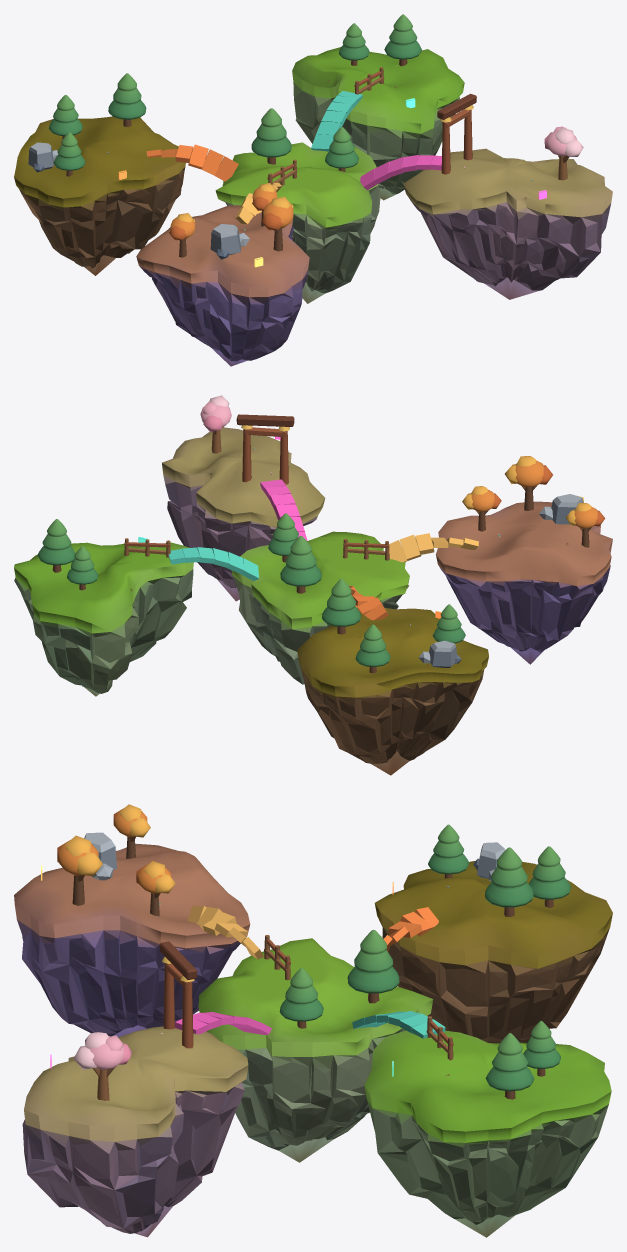
Rendered from swimmer-world.glb.
3 views of the same model, one above another, from view 1: azimuth 30°, elevation 25°; view 2: azimuth 150°, elevation 25°; view 3: azimuth 270°, elevation 25° (orthographic). The views are drawn at different scales.
Visible parts, largest first — view 1: ground_party, ground_break, ground_dir, remote_props, ground_uni, ground, bridge_break, bridge_university, bridge_swimmerparty; view 2: ground_break, ground_dir, ground_uni, remote_props, ground_party, ground, bridge_university, bridge_directing, bridge_swimmerparty, bridge_break; view 3: ground_uni, ground_party, ground_dir, ground_break, ground, remote_props, bridge_directing, bridge_university, bridge_swimmerparty, bridge_break.
Boxes of the visible parts, x1,y1,x2,y2 form: ground_party: (403, 148, 612, 299); ground_break: (14, 116, 185, 275); ground_dir: (136, 205, 309, 366); remote_props: (28, 14, 583, 259); ground_uni: (292, 47, 464, 200); ground: (215, 142, 380, 303); bridge_break: (146, 144, 238, 181); bridge_university: (311, 91, 362, 151); bridge_swimmerparty: (360, 155, 441, 190); ground_break: (297, 607, 488, 775); ground_dir: (436, 501, 612, 664); ground_uni: (14, 542, 193, 696); remote_props: (37, 395, 605, 673); ground_party: (162, 427, 325, 601); ground: (231, 531, 409, 684); bridge_university: (168, 547, 258, 581); bridge_directing: (389, 533, 478, 562); bridge_swimmerparty: (260, 479, 307, 540); bridge_break: (349, 585, 388, 620); ground_uni: (364, 1030, 611, 1237); ground_party: (22, 1026, 248, 1237); ground_dir: (14, 844, 250, 1037); ground_break: (374, 861, 612, 1043); ground: (198, 938, 433, 1162); remote_props: (57, 804, 571, 1100); bridge_directing: (187, 906, 263, 959); bridge_university: (352, 1011, 445, 1038); bridge_swimmerparty: (175, 1012, 271, 1034); bridge_break: (383, 907, 438, 951).
Bounding box in the file's own units: 16.8 × 7.69 × 15.34.
